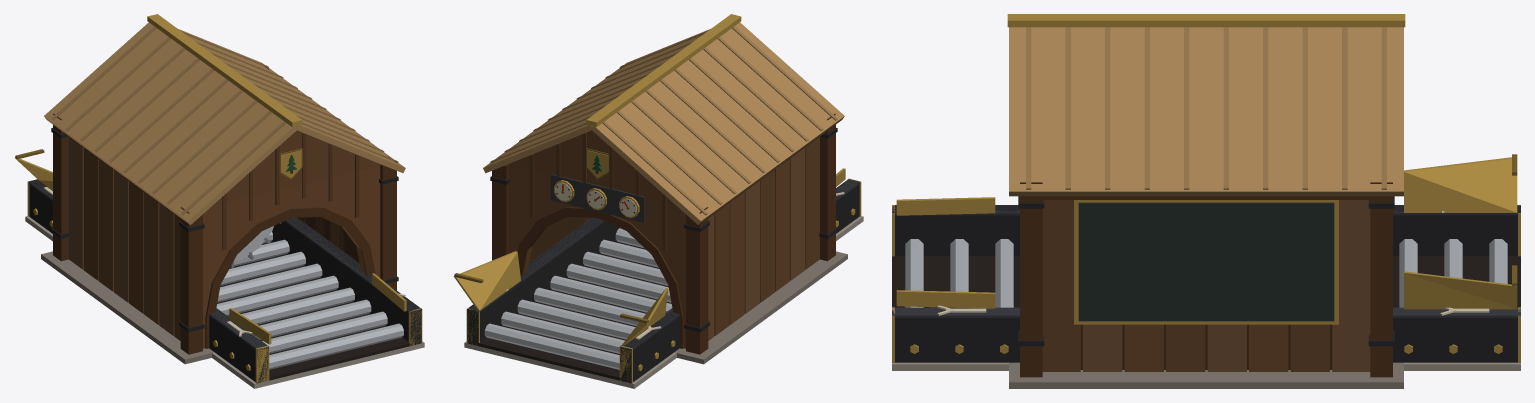
File: SawmillSturdy.glb
3 views of the same model, side by side, from view 1: azimuth 30°, elevation 25°; view 2: azimuth 150°, elevation 25°; view 3: azimuth 270°, elevation 25° (orthographic). The views are drawn at different scales.
Parts seen in each view (by area): view 1: Body, Rollers, Belt, SawBlade; view 2: Body, Rollers, Belt; view 3: Body, Rollers, Belt, ArrowDecal.
Part boxes in pixels (bbox=[...]): Body: bbox=[15, 14, 424, 388]; Rollers: bbox=[33, 208, 403, 370]; Belt: bbox=[217, 241, 410, 380]; SawBlade: bbox=[230, 222, 281, 268]; Body: bbox=[453, 14, 863, 388]; Rollers: bbox=[484, 208, 855, 370]; Belt: bbox=[478, 241, 671, 380]; Body: bbox=[892, 14, 1520, 388]; Rollers: bbox=[905, 239, 1507, 353]; Belt: bbox=[892, 256, 1520, 307]; ArrowDecal: bbox=[937, 211, 1489, 315].
Bounding box in the file's own units: 7.9 × 7.29 × 14.
